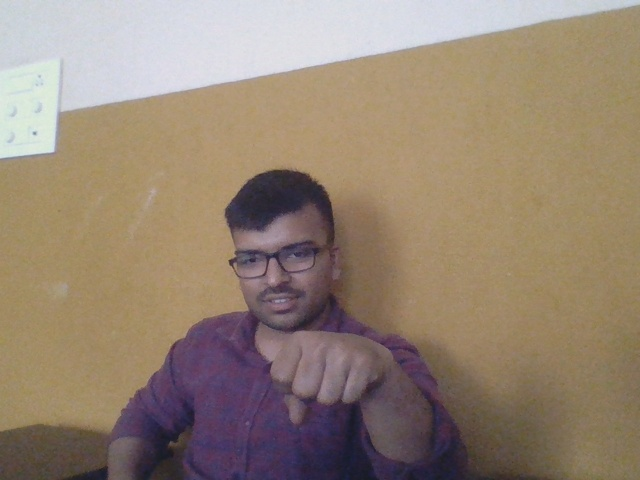Yes: (266, 319, 382, 433)
